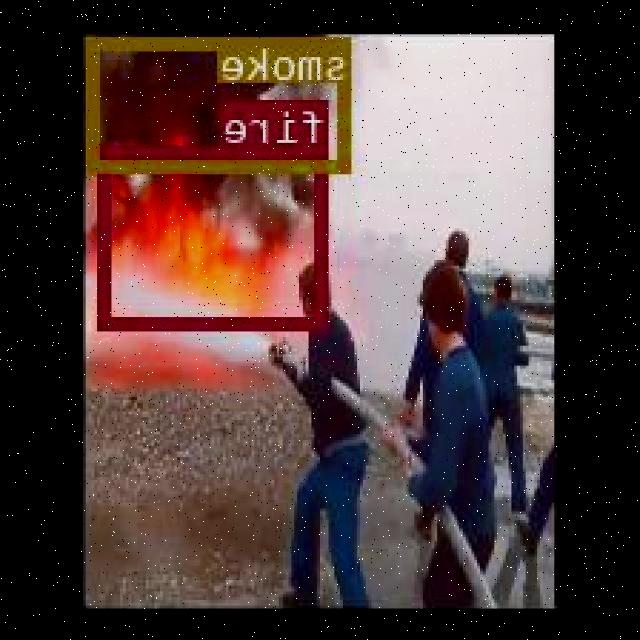fire: (100, 143, 330, 328)
smoke: (90, 34, 352, 170)
